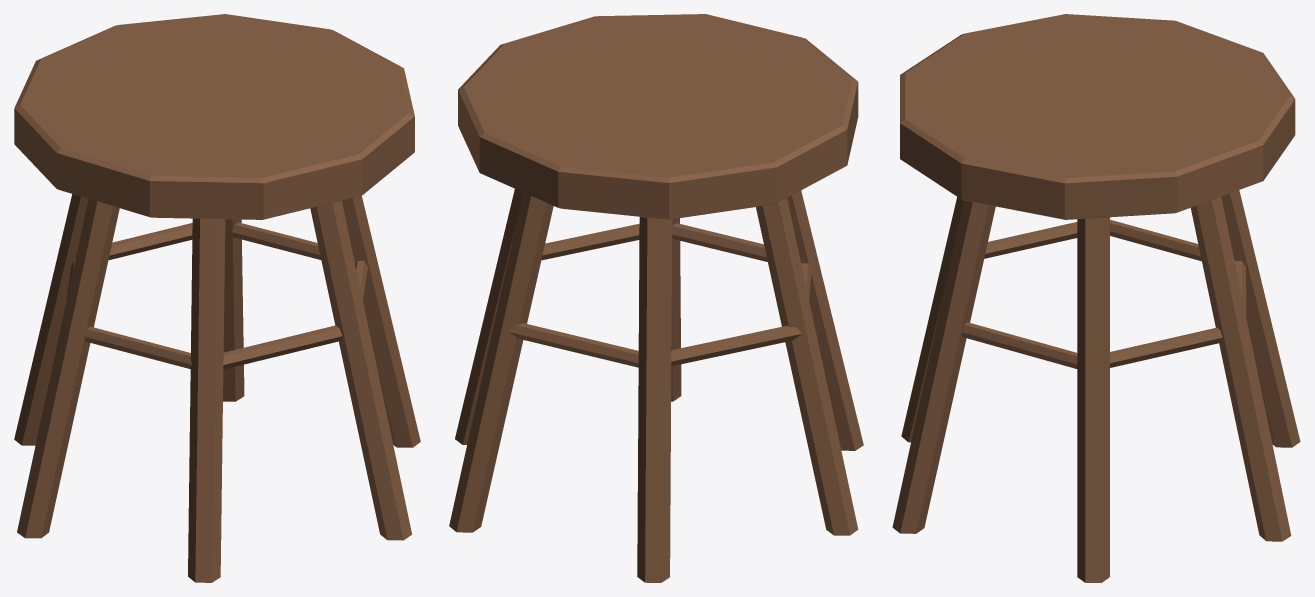
Rendered from stool.fbx.
The picture shows the model from 3 angles, left to right: view 1: azimuth 30°, elevation 25°; view 2: azimuth 150°, elevation 25°; view 3: azimuth 270°, elevation 25°; orthographic projection.
Parts seen in each view (by area): view 1: Stool; view 2: Stool; view 3: Stool.
Part boxes in pixels (x1,y1,x2,y2): Stool: (14,14,420,582); Stool: (449,14,863,582); Stool: (892,14,1300,582).
Size of the model in its own units: 55.73 by 52.59 by 49.95.
